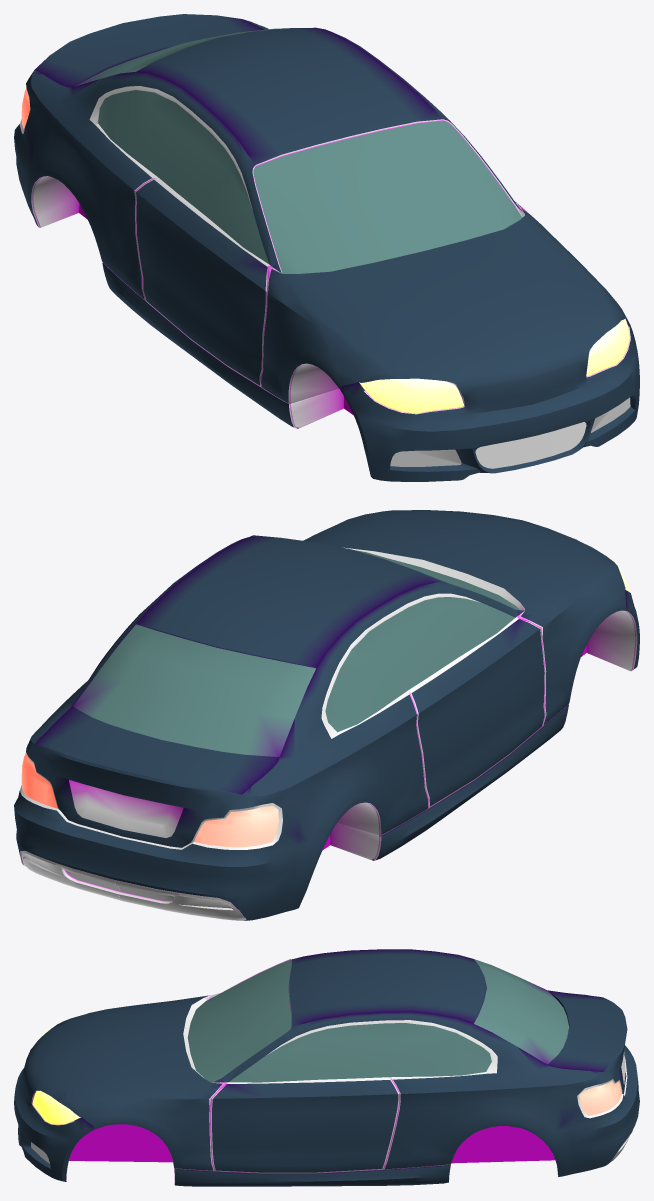
Rendered from car_sedan_body.fbx.
The picture shows the model from 3 angles, top to bottom: view 1: azimuth 30°, elevation 25°; view 2: azimuth 150°, elevation 25°; view 3: azimuth 270°, elevation 25°; orthographic projection. The views are drawn at different scales.
Visible parts, largest first — view 1: car_sedan_body; view 2: car_sedan_body; view 3: car_sedan_body.
Boxes of the visible parts, <box> form: car_sedan_body: <box>14,14,639,481</box>; car_sedan_body: <box>14,510,639,920</box>; car_sedan_body: <box>14,949,639,1186</box>.
Bounding box in the file's own units: 172 × 124 × 435.
